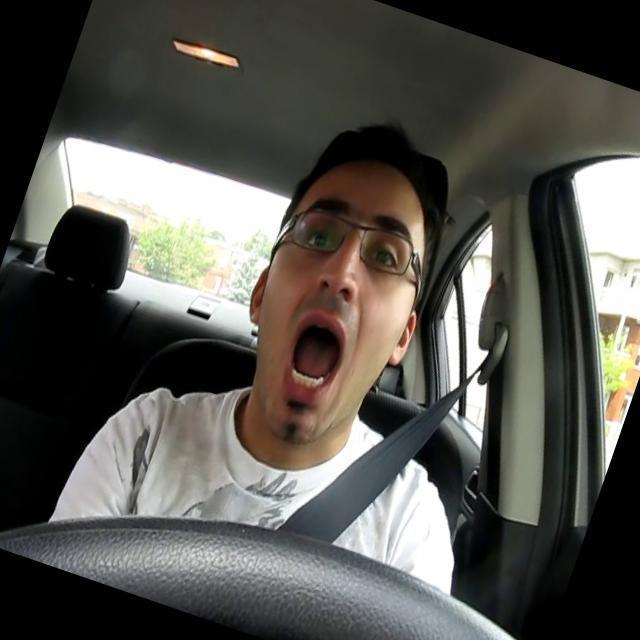open-mouth: (284, 316, 346, 394)
